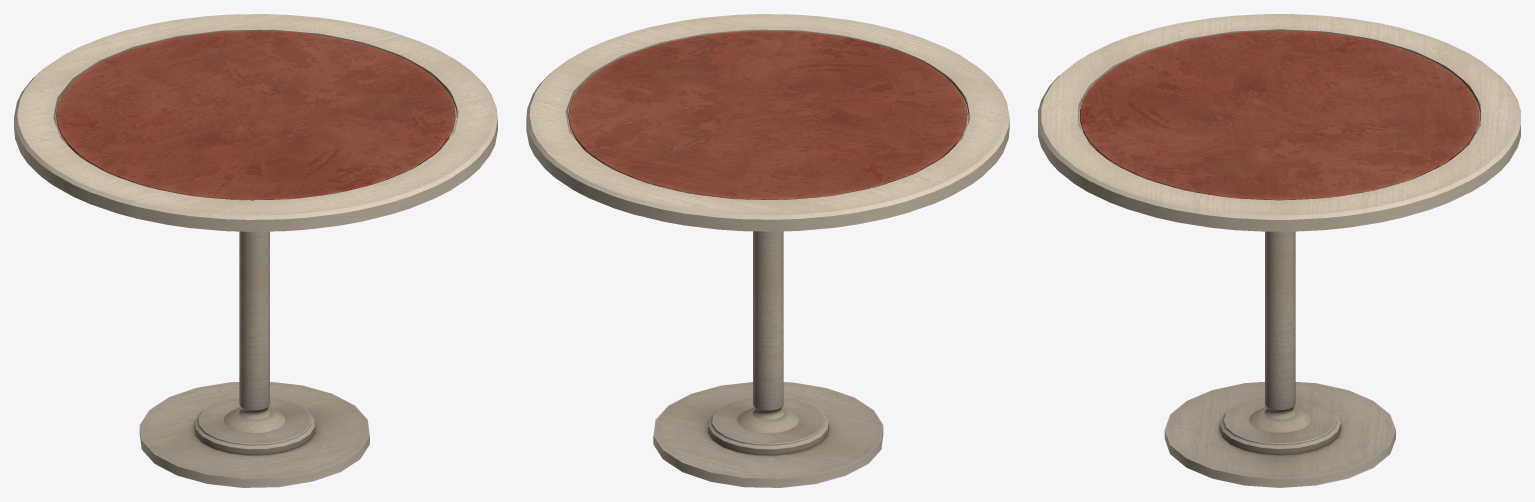
File: Round_Table_01.fbx
The picture shows the model from 3 angles, left to right: view 1: azimuth 30°, elevation 25°; view 2: azimuth 150°, elevation 25°; view 3: azimuth 270°, elevation 25°; orthographic projection.
Visible parts, largest first — view 1: Table_Ronde; view 2: Table_Ronde; view 3: Table_Ronde.
Part boxes in pixels (bbox=[...]): Table_Ronde: bbox=[14, 14, 497, 487]; Table_Ronde: bbox=[526, 14, 1009, 487]; Table_Ronde: bbox=[1038, 14, 1520, 487].
Size of the model in its own units: 59.38 by 44.02 by 59.3.
